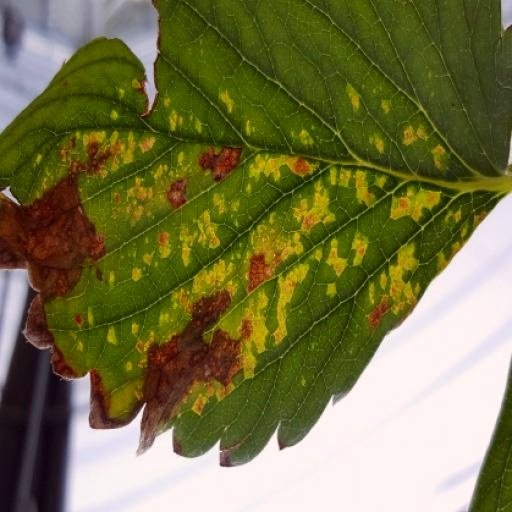Angular Leafspot: (18, 43, 511, 479)
